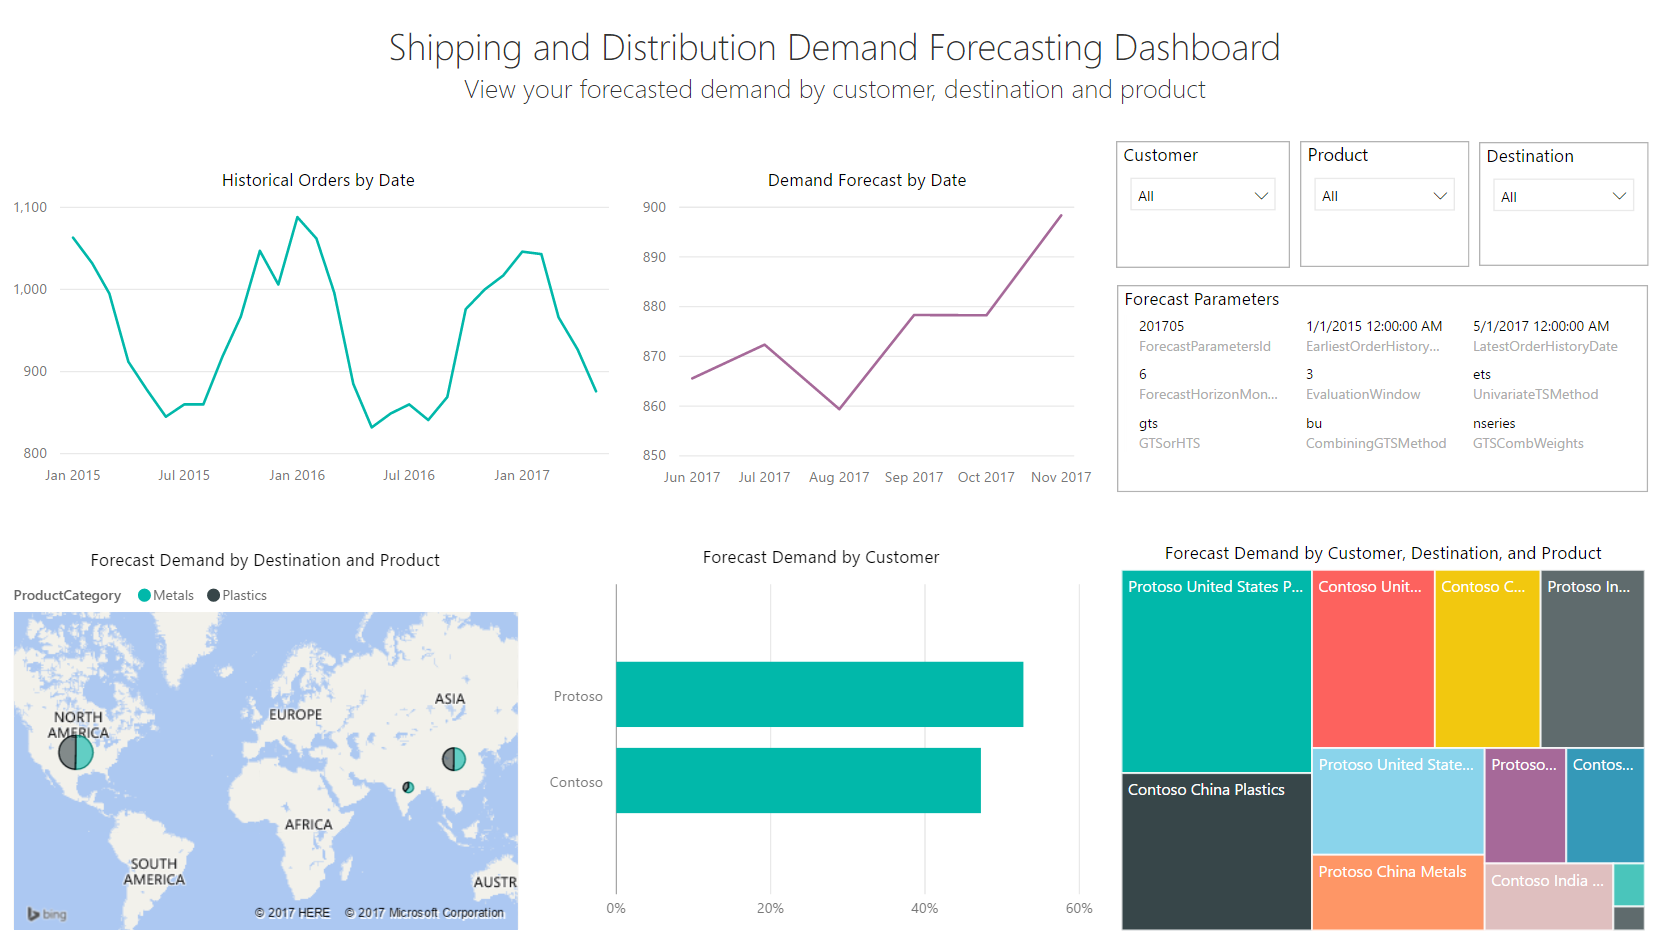

The dashboard page shown, as its layout file describes it:
{"tool":"powerbi","page":{"name":"Page 1","canvas":[1280,720],"ordinal":0},"visuals":[{"type":"slicer","fields":{"Values":["Customer.CustomerName"]},"box":[854.6,96.9,133.7,96.9],"z":3},{"type":"slicer","fields":{"Values":["Destination.Destination"]},"box":[1131.4,97.7,130.3,95.1],"z":4},{"type":"slicer","fields":{"Values":["Product.ProductCategory"]},"box":[995.1,96.9,129.4,96],"z":5},{"type":"lineChart","fields":{"Y":["Sum(FcastML HistoricalOrders.Quantity)"],"Category":["FcastML HistoricalOrders.Date"]},"box":[6.1,117.7,478.5,246.1],"z":5},{"type":"multiRowCard","fields":{"Values":["LatestForecastParameters.ForecastParametersId","LatestForecastParameters.EarliestOrderHistoryDate","LatestForecastParameters.LatestOrderHistoryDate","Sum(LatestForecastParameters.ForecastHorizonMonths)","Sum(LatestForecastParameters.EvaluationWindow)","LatestForecastParameters.UnivariateTSMethod","LatestForecastParameters.GTSorHTS","LatestForecastParameters.CombiningGTSMethod","LatestForecastParameters.GTSCombWeights"]},"box":[855.5,206.7,404.9,157.9],"z":6},{"type":"treemap","fields":{"Group":["Customer.CustomerName","Destination.Destination","Product.ProductCategory"],"Values":["Sum(LatestStatisticalForecast.Quantity)"]},"box":[853.9,402.6,409.5,301.9],"z":7},{"type":"textbox","box":[8,0,1264,80],"z":9},{"type":"lineChart","fields":{"Category":["LatestStatisticalForecast.ForecastDate"],"Y":["Sum(LatestStatisticalForecast.Quantity)"]},"box":[487.8,117.7,353.9,248.2],"z":12},{"type":"map","fields":{"Category":["Destination.Destination"],"Series":["Product.ProductCategory"],"Size":["Sum(LatestStatisticalForecast.Quantity)"]},"box":[7.7,407.6,394.8,295.9],"z":14},{"type":"clusteredBarChart","fields":{"Category":["Customer.CustomerName"],"Y":["Sum(LatestStatisticalForecast.Quantity)"]},"box":[416.5,405.7,425.8,295],"z":15}]}

Visuals, with their boxes in screenshot pixels (x1, y1, x2, y2), scaled from the page's 1280x720 canvas onto the 1666x946 screenshot:
slicer - Customer.CustomerName: region(1112, 127, 1286, 255)
slicer - Destination.Destination: region(1473, 128, 1642, 253)
slicer - Product.ProductCategory: region(1295, 127, 1464, 253)
lineChart - Sum(FcastML HistoricalOrders.Quantity) x FcastML HistoricalOrders.Date: region(8, 155, 631, 478)
multiRowCard - LatestForecastParameters.ForecastParametersId x LatestForecastParameters.EarliestOrderHistoryDate: region(1113, 272, 1640, 479)
treemap - Customer.CustomerName x Destination.Destination: region(1111, 529, 1644, 926)
textbox: region(10, 0, 1656, 105)
lineChart - LatestStatisticalForecast.ForecastDate x Sum(LatestStatisticalForecast.Quantity): region(635, 155, 1096, 481)
map - Destination.Destination x Product.ProductCategory: region(10, 536, 524, 924)
clusteredBarChart - Customer.CustomerName x Sum(LatestStatisticalForecast.Quantity): region(542, 533, 1096, 921)
